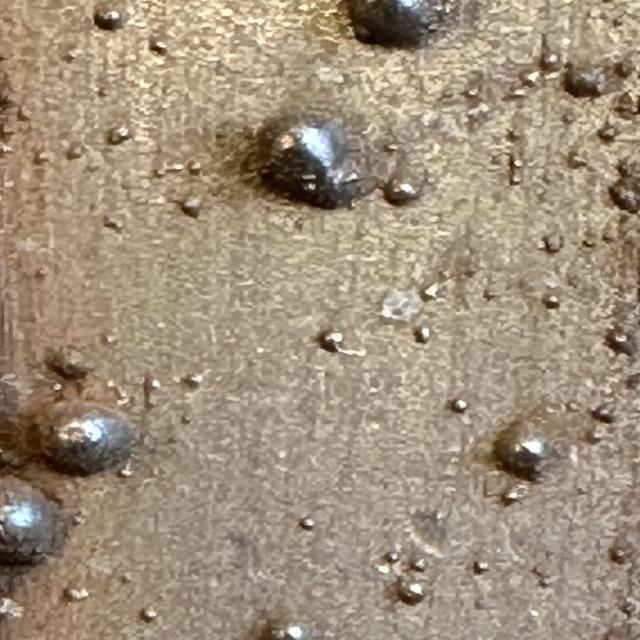Spatters: (257, 112, 362, 209), (43, 402, 137, 476), (0, 476, 60, 565), (348, 0, 453, 48), (493, 417, 548, 481), (43, 349, 93, 380), (563, 66, 605, 98), (608, 176, 640, 214), (382, 179, 422, 205), (261, 622, 313, 640), (95, 2, 125, 30), (607, 326, 635, 355), (397, 576, 425, 605), (500, 484, 528, 506), (590, 404, 617, 424), (318, 331, 343, 352), (538, 51, 562, 72), (508, 152, 523, 185), (597, 121, 620, 142), (107, 126, 132, 145), (420, 281, 443, 301), (182, 196, 202, 219), (503, 82, 528, 100), (148, 34, 168, 56), (67, 141, 87, 160), (567, 151, 588, 169), (522, 70, 542, 88), (63, 588, 90, 601), (615, 60, 633, 78), (143, 375, 162, 392), (182, 374, 203, 389), (560, 109, 577, 126), (140, 606, 158, 622), (33, 151, 53, 165), (415, 326, 430, 344), (187, 160, 203, 176), (117, 462, 133, 478), (542, 295, 560, 309), (100, 331, 118, 345), (473, 561, 490, 575), (382, 551, 400, 564), (505, 129, 523, 142), (410, 559, 427, 572), (452, 399, 468, 412), (298, 518, 315, 530), (463, 88, 478, 98)
